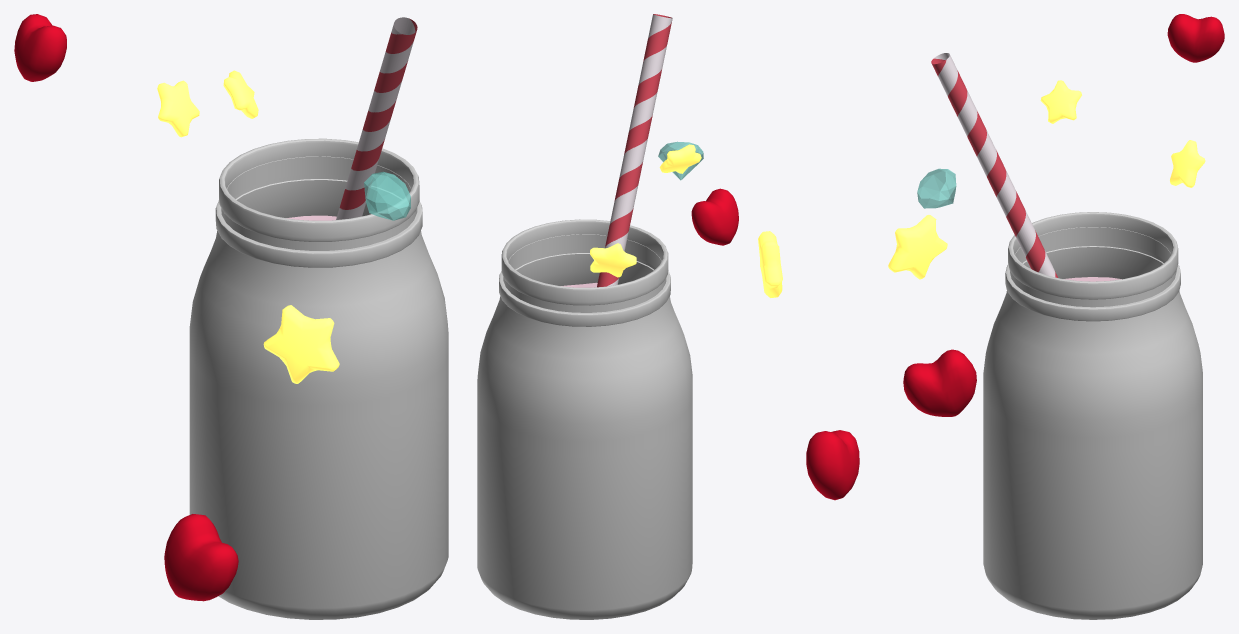
Rendered from cute_milkshake.glb.
The picture shows the model from 3 angles, left to right: view 1: azimuth 30°, elevation 25°; view 2: azimuth 150°, elevation 25°; view 3: azimuth 270°, elevation 25°; orthographic projection. The views are drawn at different scales.
Visible parts, largest first — view 1: cup_2, Cube.001_11, Star.002_8, Cube_10, straw1_4, straw2_5, Gem_9, Star.001_7, Star_6; view 2: cup_2, Cube.001_11, straw2_5, straw1_4, Cube_10, Star.002_8, Star.001_7, Star_6, Gem_9; view 3: cup_2, Cube.001_11, straw1_4, straw2_5, Star.002_8, Cube_10, Gem_9, Star_6, Star.001_7.
Part boxes in pixels (left/top/right/bottom): cup_2: left=189, top=138, right=448, bottom=619; Cube.001_11: left=164, top=514, right=238, bottom=601; Star.002_8: left=263, top=305, right=339, bottom=383; Cube_10: left=14, top=14, right=66, bottom=81; straw1_4: left=336, top=17, right=415, bottom=219; straw2_5: left=339, top=18, right=417, bottom=209; Gem_9: left=364, top=171, right=410, bottom=220; Star.001_7: left=157, top=80, right=199, bottom=137; Star_6: left=223, top=70, right=258, bottom=118; cup_2: left=477, top=219, right=692, bottom=619; Cube.001_11: left=806, top=430, right=859, bottom=500; straw2_5: left=597, top=14, right=671, bottom=287; straw1_4: left=605, top=14, right=672, bottom=286; Cube_10: left=691, top=188, right=738, bottom=245; Star.002_8: left=758, top=231, right=782, bottom=297; Star.001_7: left=590, top=243, right=636, bottom=277; Star_6: left=659, top=144, right=701, bottom=173; Gem_9: left=658, top=141, right=703, bottom=180; cup_2: left=983, top=212, right=1202, bottom=619; Cube.001_11: left=903, top=349, right=976, bottom=416; straw1_4: left=934, top=53, right=1055, bottom=277; straw2_5: left=931, top=58, right=1057, bottom=277; Star.002_8: left=888, top=215, right=947, bottom=279; Cube_10: left=1167, top=14, right=1224, bottom=62; Gem_9: left=917, top=168, right=956, bottom=208; Star_6: left=1040, top=80, right=1081, bottom=123; Star.001_7: left=1170, top=140, right=1205, bottom=187.
Bounding box in the file's own units: 0.1341 × 0.2253 × 0.1314.
